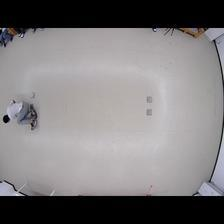fall: (1, 96, 38, 131)
